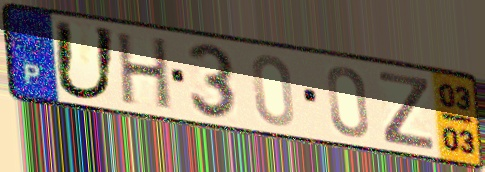0: (249, 52, 297, 130), (324, 64, 372, 140)
3: (184, 42, 239, 122)
H: (116, 31, 174, 114)
U: (51, 17, 119, 103)
Z: (377, 68, 437, 152)
